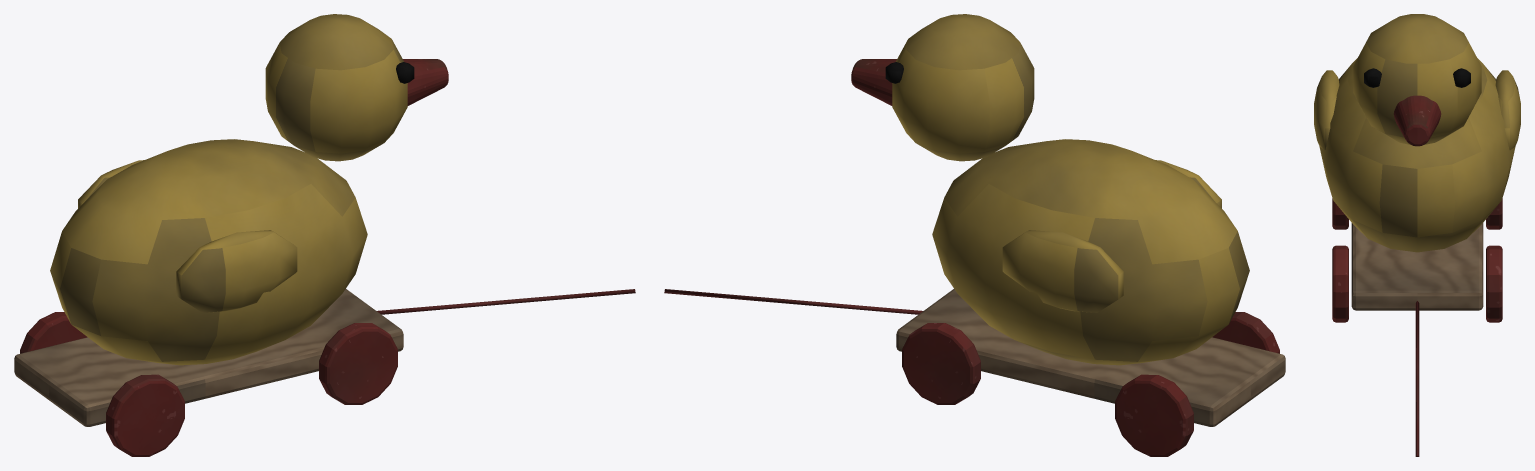
File: TY03_pull_along_duck.glb
3 views of the same model, side by side, from view 1: azimuth 30°, elevation 25°; view 2: azimuth 150°, elevation 25°; view 3: azimuth 270°, elevation 25° (orthographic). The views are drawn at different scales.
Parts seen in each view (by area): view 1: TY03_pull_along_duck; view 2: TY03_pull_along_duck; view 3: TY03_pull_along_duck.
Part boxes in pixels (x1,y1,x2,y2): TY03_pull_along_duck: (14,14,635,456); TY03_pull_along_duck: (664,14,1285,456); TY03_pull_along_duck: (1314,14,1520,456).
Bounding box in the file's own units: 0.4 × 0.2253 × 0.137.
Materials: 5 (5 with a texture image).
